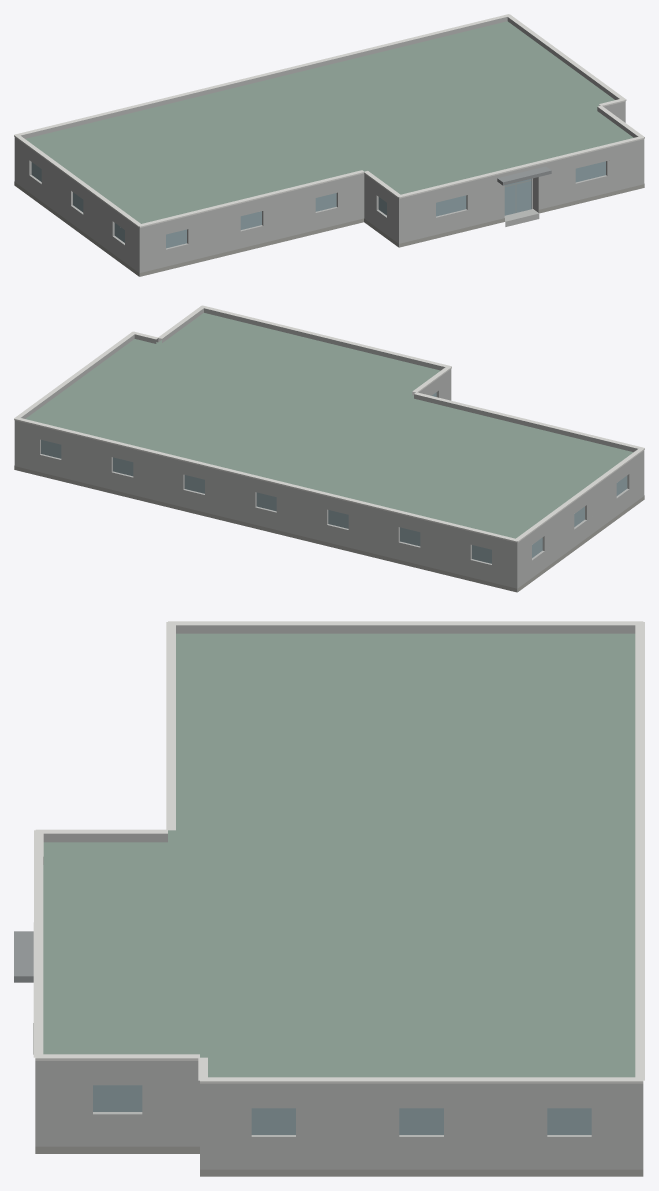
3 views of the same model, one above another, from view 1: azimuth 30°, elevation 25°; view 2: azimuth 150°, elevation 25°; view 3: azimuth 270°, elevation 25° (orthographic). The views are drawn at different scales.
Visible parts, largest first — view 1: b115951784__roof, b115951784__wall, b115951784__parapet, b115951784__trim, b115951784__glass, b115951784__base, b115951784__canopy, b115951784__entranceThreshold_0; view 2: b115951784__roof, b115951784__wall, b115951784__trim, b115951784__parapet, b115951784__base, b115951784__glass; view 3: b115951784__roof, b115951784__wall, b115951784__trim, b115951784__parapet, b115951784__glass, b115951784__base, b115951784__canopy.
Part boxes in pixels (x1=…): b115951784__roof: x1=25, y1=21, x2=633, y2=223; b115951784__wall: x1=14, y1=104, x2=644, y2=276; b115951784__parapet: x1=14, y1=17, x2=644, y2=230; b115951784__trim: x1=14, y1=14, x2=644, y2=227; b115951784__glass: x1=31, y1=161, x2=605, y2=248; b115951784__base: x1=14, y1=181, x2=644, y2=276; b115951784__canopy: x1=497, y1=166, x2=551, y2=185; b115951784__entranceThreshold_0: x1=504, y1=209, x2=539, y2=226; b115951784__roof: x1=26, y1=313, x2=633, y2=592; b115951784__wall: x1=14, y1=371, x2=644, y2=591; b115951784__trim: x1=14, y1=305, x2=644, y2=542; b115951784__parapet: x1=14, y1=308, x2=644, y2=545; b115951784__base: x1=14, y1=465, x2=644, y2=592; b115951784__glass: x1=41, y1=392, x2=627, y2=563; b115951784__roof: x1=43, y1=633, x2=635, y2=1077; b115951784__wall: x1=35, y1=1066, x2=643, y2=1169; b115951784__trim: x1=33, y1=621, x2=644, y2=1083; b115951784__parapet: x1=35, y1=625, x2=643, y2=1089; b115951784__glass: x1=93, y1=1085, x2=591, y2=1134; b115951784__base: x1=35, y1=1146, x2=643, y2=1176; b115951784__canopy: x1=14, y1=931, x2=33, y2=982.
Bounding box in the file's own units: 40.77 × 4.35 × 23.62.
